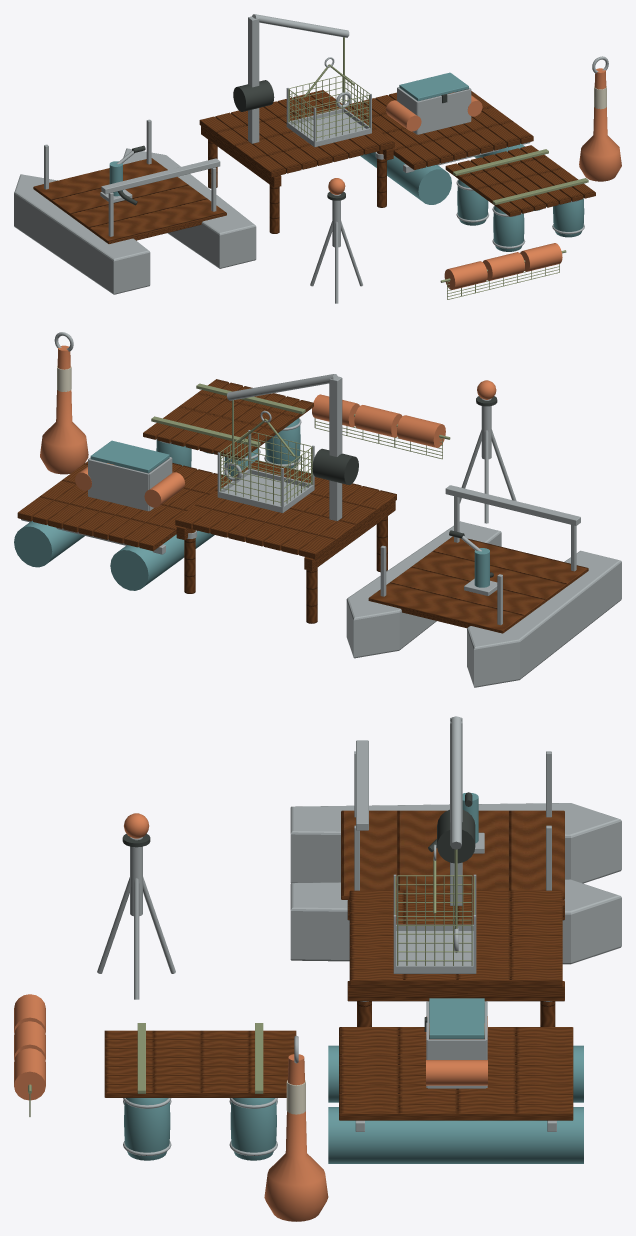
The model's file is flooded-and-coastal-survival-flood-recovery-landing-ab702627__20099.glb.
The picture shows the model from 3 angles, top to bottom: view 1: azimuth 30°, elevation 25°; view 2: azimuth 150°, elevation 25°; view 3: azimuth 270°, elevation 25°; orthographic projection. The views are drawn at different scales.
Visible parts, largest first — view 1: 003-catamaran-work-platform/0, 000-winch-landing/0, 003-catamaran-work-platform/1, 001-pontoon-dock/1, 002-barrel-float-raft/2, 002-barrel-float-raft/0, 007-debris-boom/0, 004-salvage-lifting-basket/1, 004-salvage-lifting-basket/0, 006-navigation-spar-buoy/0, 000-winch-landing/1, 001-pontoon-dock/0 (+8 smaller); view 2: 003-catamaran-work-platform/0, 000-winch-landing/0, 003-catamaran-work-platform/1, 001-pontoon-dock/1, 002-barrel-float-raft/2, 001-pontoon-dock/0, 007-debris-boom/0, 004-salvage-lifting-basket/1, 004-salvage-lifting-basket/0, 000-winch-landing/1, 006-navigation-spar-buoy/0, 005-floating-cargo-chest/0 (+8 smaller); view 3: 003-catamaran-work-platform/0, 000-winch-landing/0, 001-pontoon-dock/1, 003-catamaran-work-platform/1, 001-pontoon-dock/0, 002-barrel-float-raft/2, 002-barrel-float-raft/0, 006-navigation-spar-buoy/0, 004-salvage-lifting-basket/0, 007-debris-boom/0, 004-salvage-lifting-basket/1, 009-flood-beacon-tripod/0 (+7 smaller).
Boxes of the visible parts, x1,y1,x2,y2 form: 003-catamaran-work-platform/0: (14,119,256,294); 000-winch-landing/0: (199,90,394,233); 003-catamaran-work-platform/1: (33,158,226,243); 001-pontoon-dock/1: (348,91,533,169); 002-barrel-float-raft/2: (445,145,595,216); 002-barrel-float-raft/0: (457,179,584,251); 007-debris-boom/0: (444,243,562,289); 004-salvage-lifting-basket/1: (288,64,369,141); 004-salvage-lifting-basket/0: (286,57,371,147); 006-navigation-spar-buoy/0: (579,68,621,181); 000-winch-landing/1: (248,14,384,184); 001-pontoon-dock/0: (360,143,524,204); 003-catamaran-work-platform/0: (346,485,621,687); 000-winch-landing/0: (175,460,396,623); 003-catamaran-work-platform/1: (368,536,588,633); 001-pontoon-dock/1: (17,461,228,550); 002-barrel-float-raft/2: (143,379,313,460); 001-pontoon-dock/0: (14,520,214,590); 007-debris-boom/0: (312,394,445,447); 004-salvage-lifting-basket/1: (220,418,312,505); 004-salvage-lifting-basket/0: (217,410,314,513); 000-winch-landing/1: (187,374,342,538); 006-navigation-spar-buoy/0: (40,345,88,474); 005-floating-cargo-chest/0: (88,457,172,511); 003-catamaran-work-platform/0: (290,740,621,964); 000-winch-landing/0: (347,890,564,1026); 001-pontoon-dock/1: (339,1027,573,1120); 003-catamaran-work-platform/1: (341,810,564,899); 001-pontoon-dock/0: (328,1045,583,1163); 002-barrel-float-raft/2: (104,1030,296,1097); 002-barrel-float-raft/0: (124,1098,276,1160); 006-navigation-spar-buoy/0: (264,1054,328,1221); 004-salvage-lifting-basket/0: (393,844,476,973); 007-debris-boom/0: (14,994,45,1100); 004-salvage-lifting-basket/1: (395,857,474,965); 009-flood-beacon-tripod/0: (97,837,175,999).
Size of the model in its own units: 8.23 by 2.95 by 5.71.
Materials: 7 (1 with a texture image).
